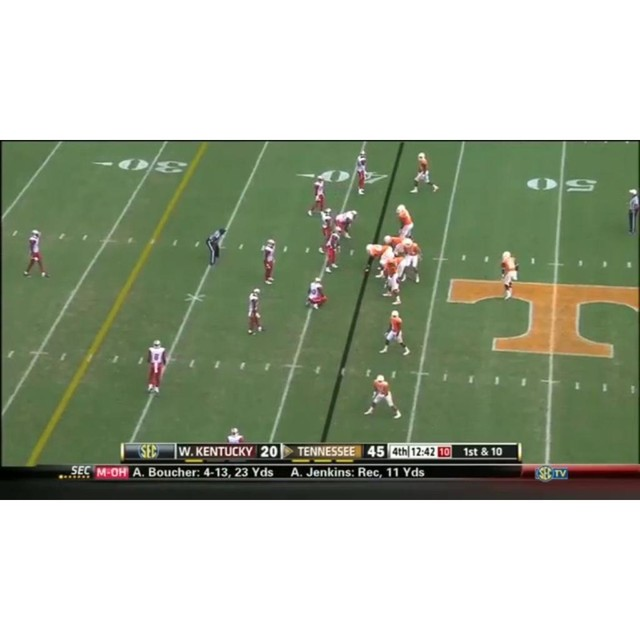american-football-player: (363, 374, 401, 418), (378, 251, 406, 305), (379, 310, 410, 356), (409, 151, 440, 194), (24, 229, 50, 278), (145, 339, 168, 394), (398, 235, 423, 284), (363, 242, 394, 276), (499, 251, 519, 301), (307, 175, 328, 217), (322, 230, 342, 274), (246, 288, 264, 335), (261, 238, 277, 284), (334, 209, 358, 239), (306, 278, 328, 310), (319, 208, 335, 250), (355, 148, 369, 194), (395, 205, 414, 238)
referee: (206, 227, 227, 266), (628, 188, 640, 237)
